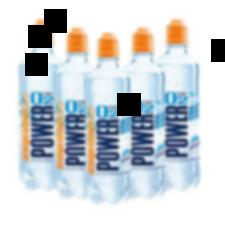powerO2_orange: (85, 29, 134, 205), (159, 18, 203, 193), (18, 16, 56, 193)
